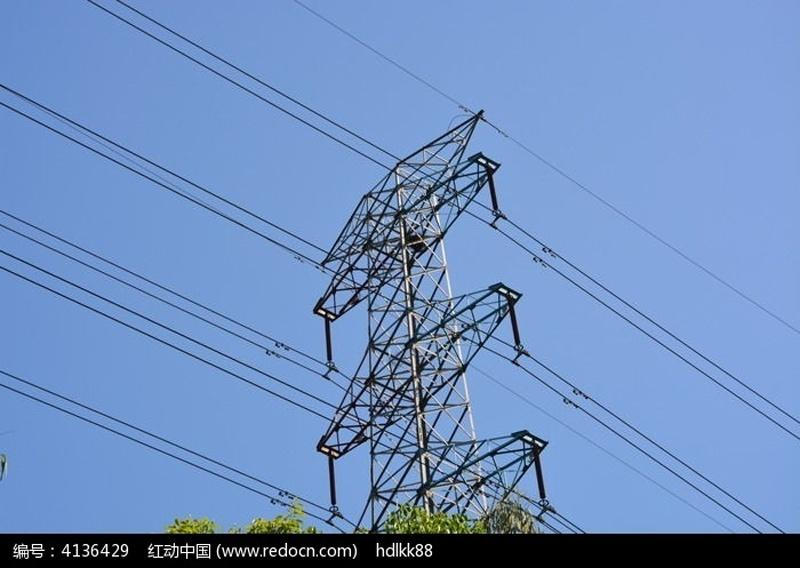power_tower: (276, 105, 558, 531)
